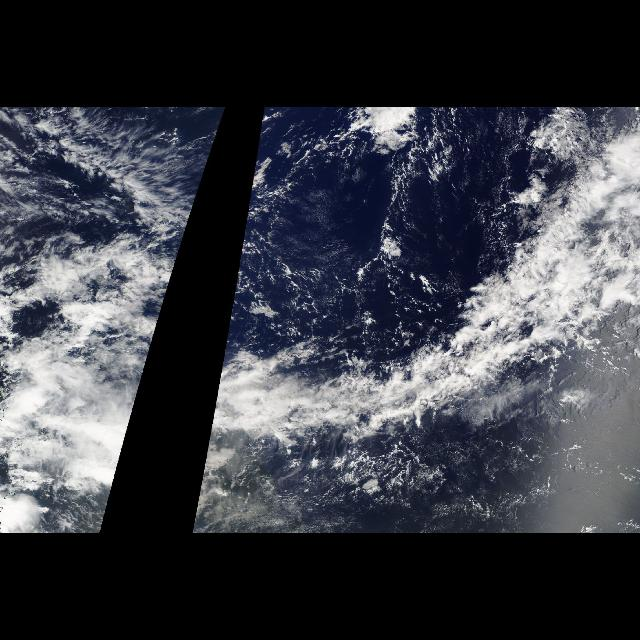Fish: (0, 110, 192, 240)
Gravel: (246, 226, 448, 370)
Sugar: (225, 436, 603, 528), (270, 149, 494, 295)
